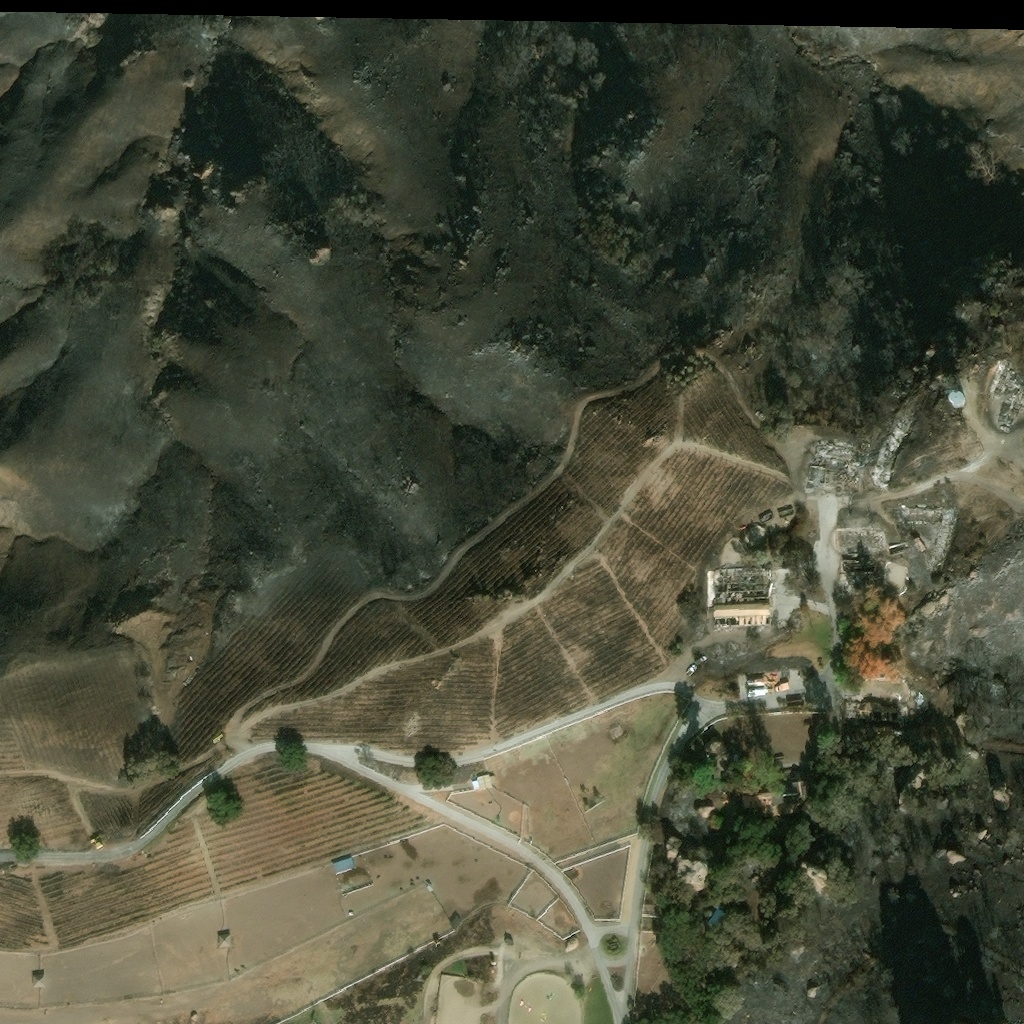0 no-damage: (738, 776, 815, 827), (330, 856, 355, 875), (218, 932, 230, 946), (32, 974, 43, 986), (189, 1012, 198, 1019)
1 minor-damage: (946, 389, 965, 407)
2 major-damage: (711, 603, 770, 627)
3 destroyed: (897, 505, 960, 572), (802, 429, 868, 485), (712, 568, 771, 599), (844, 699, 907, 724), (983, 358, 1011, 397), (836, 527, 884, 548), (838, 558, 879, 575), (995, 401, 1019, 426), (999, 377, 1018, 404), (369, 844, 392, 861), (834, 578, 846, 601), (1012, 384, 1023, 407), (913, 693, 923, 710), (790, 618, 800, 630), (103, 863, 113, 867)
4 un-classified: (839, 730, 861, 747)
